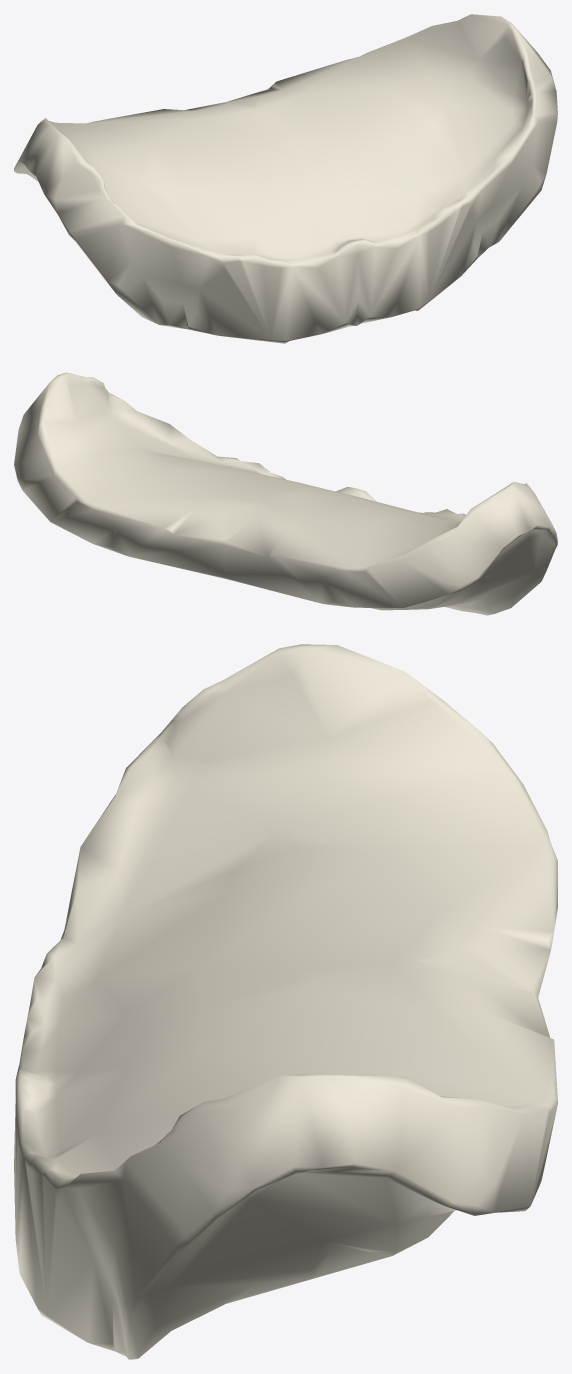
3 renders of one model, top to bottom at view 1: azimuth 30°, elevation 25°; view 2: azimuth 150°, elevation 25°; view 3: azimuth 270°, elevation 25°, orthographic. The views are drawn at different scales.
Parts seen in each view (by area): view 1: ZA_01911c95d10e1a18; view 2: ZA_01911c95d10e1a18; view 3: ZA_01911c95d10e1a18.
Part boxes in pixels (bbox=[...]): ZA_01911c95d10e1a18: bbox=[14, 14, 557, 343]; ZA_01911c95d10e1a18: bbox=[14, 372, 557, 615]; ZA_01911c95d10e1a18: bbox=[14, 644, 557, 1359].
Size of the model in its own units: 0.0313 by 0.0118 by 0.0149.
